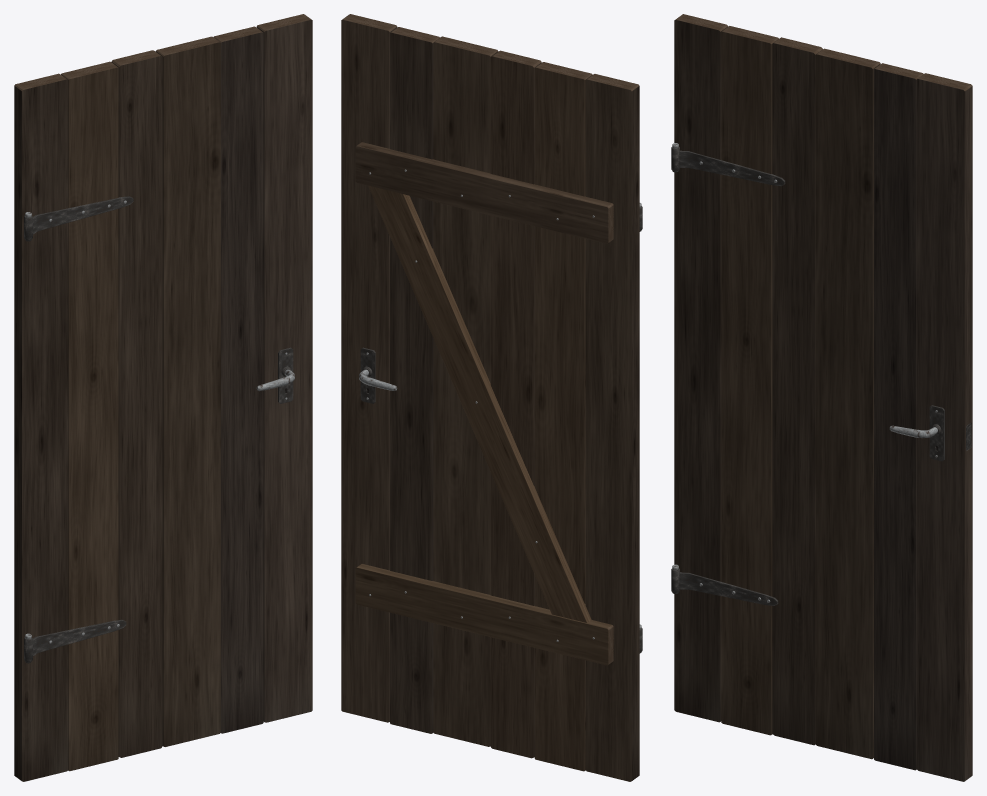
Rendered from hut_door.glb.
The picture shows the model from 3 angles, left to right: view 1: azimuth 30°, elevation 25°; view 2: azimuth 150°, elevation 25°; view 3: azimuth 330°, elevation 25°; orthographic projection.
Parts seen in each view (by area): view 1: Hut_Door; view 2: Hut_Door; view 3: Hut_Door.
Part boxes in pixels (x1,y1,x2,y2): Hut_Door: (14, 14, 312, 781); Hut_Door: (341, 14, 642, 781); Hut_Door: (671, 14, 972, 781).
Size of the model in its own units: 0.9 by 2.05 by 0.1684.
Materials: 1 (1 with a texture image).
